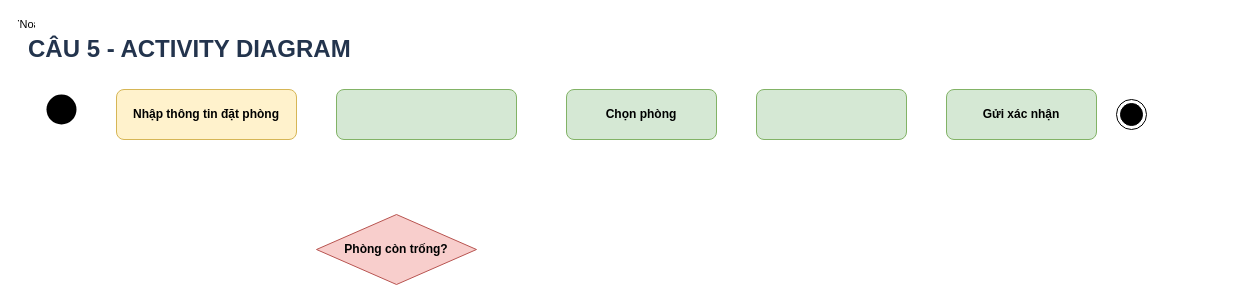
Image size: 1243x302. Some labels were removed from this diagram. Here are the shapes that lost their labels. From the top down, the centre of each, then its label:
At point 426,114: "Kiểm tra phòng trống".
At point 831,114: "Tạo phiếu đặt".
